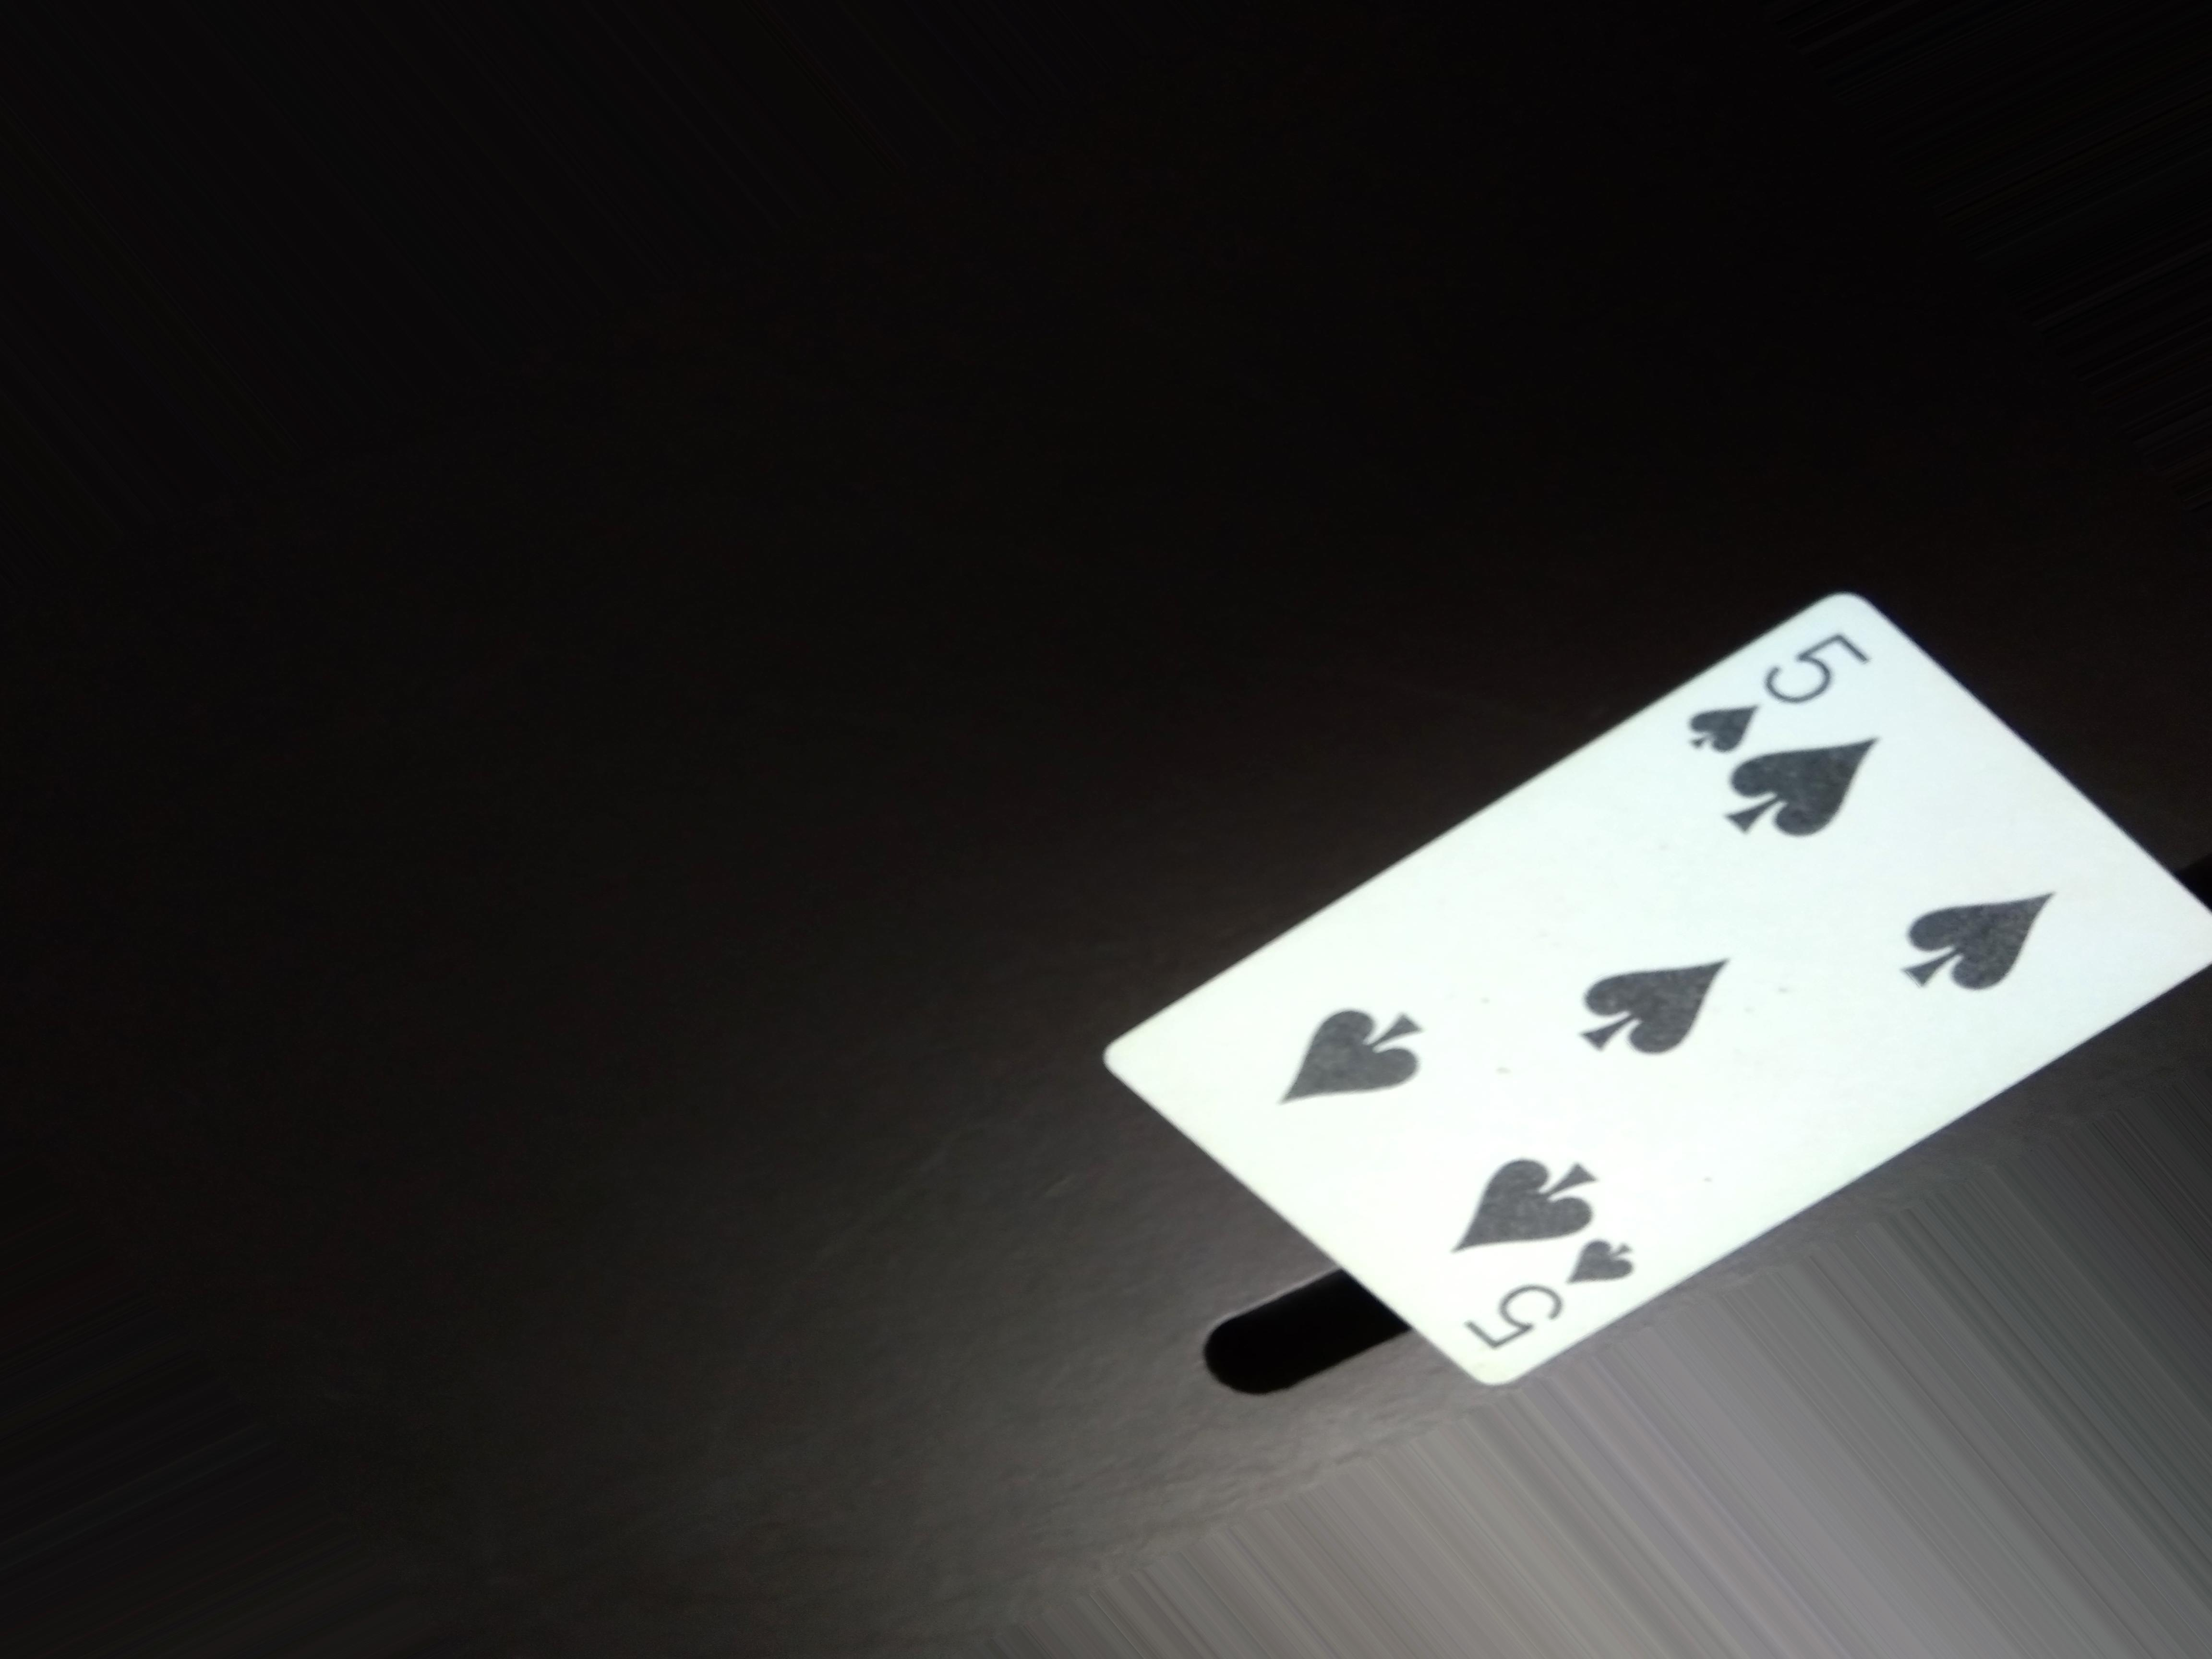5S: (1686, 619, 1876, 753)
